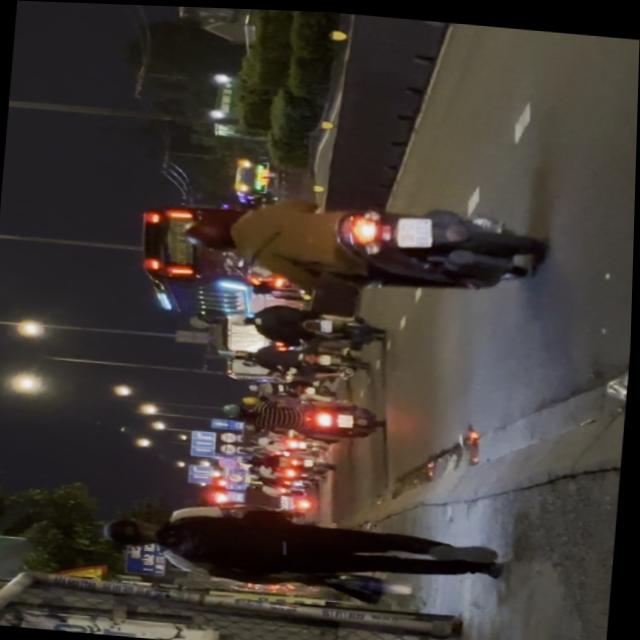helmet: (181, 213, 238, 250)
licenseplate: (174, 180, 542, 303)
nohelmet: (396, 212, 432, 245)
